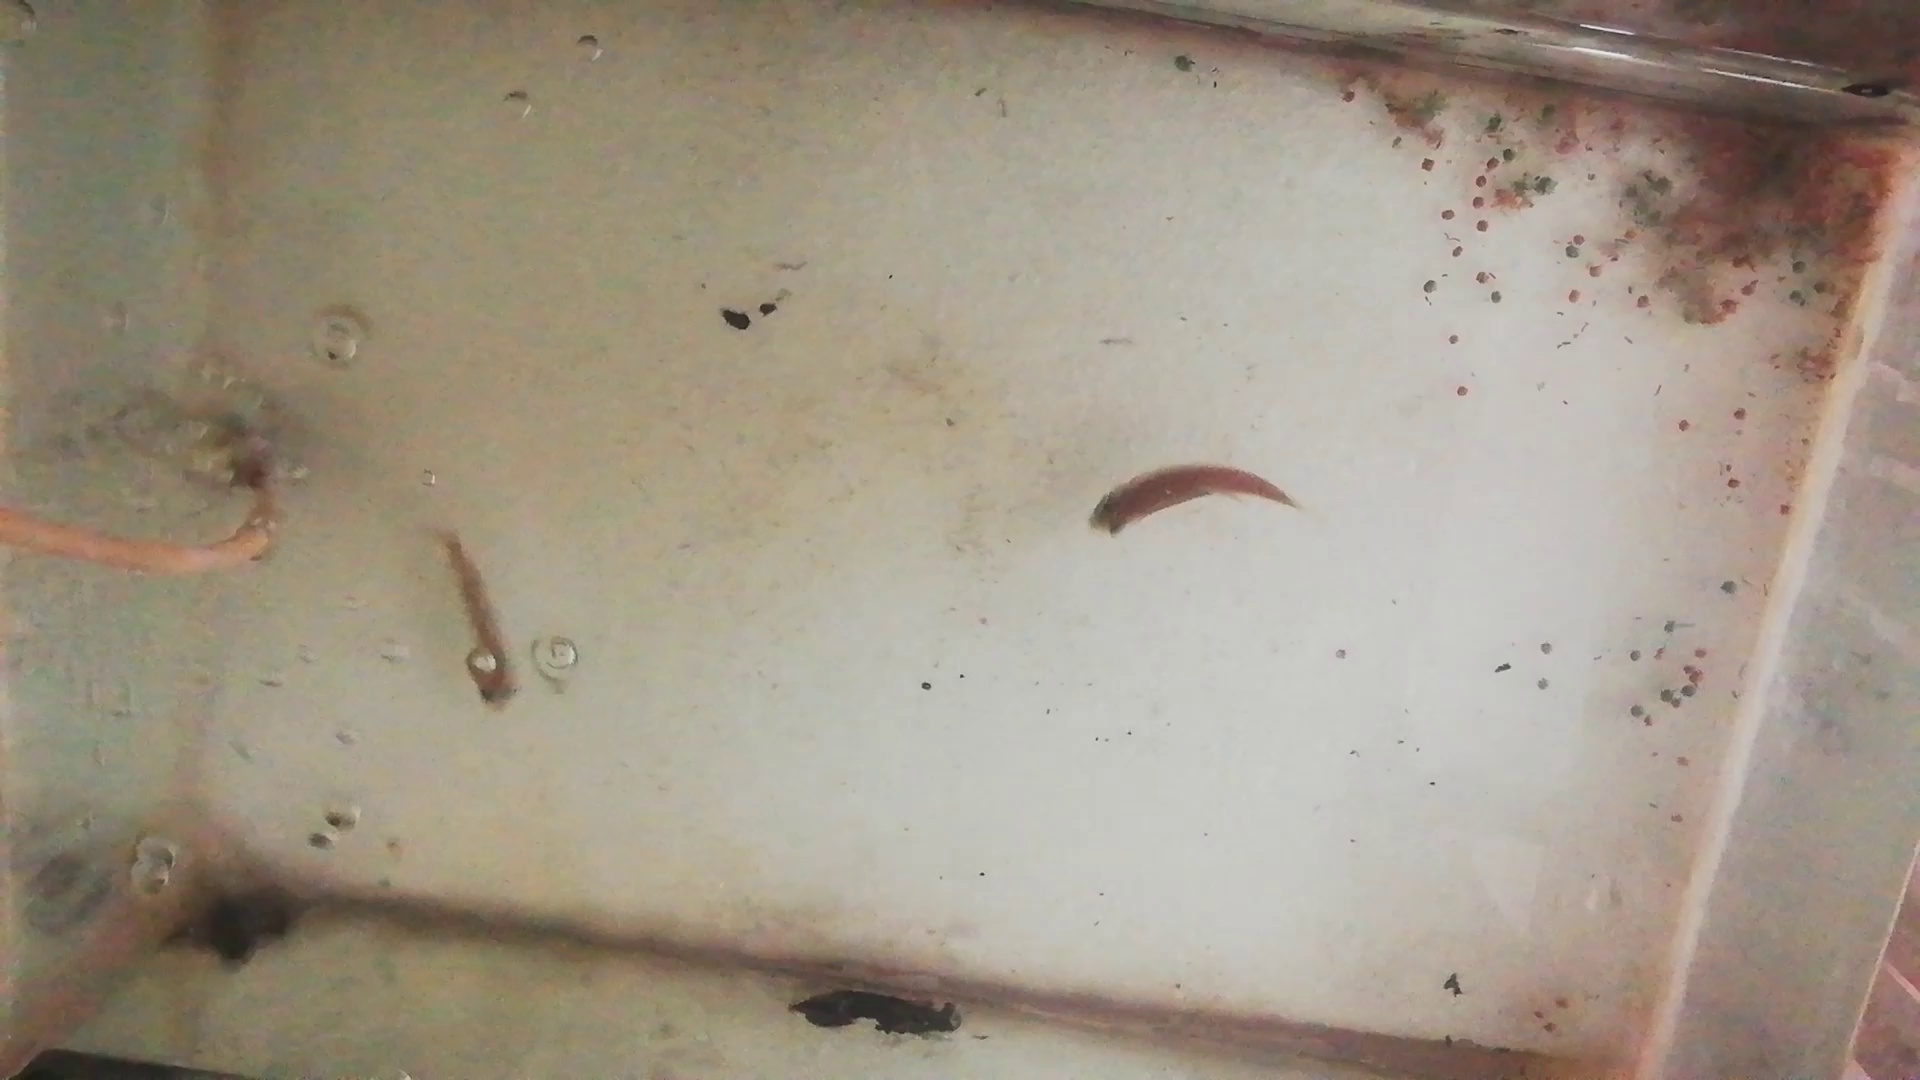fish: (430, 521, 521, 709), (1077, 460, 1299, 533)
